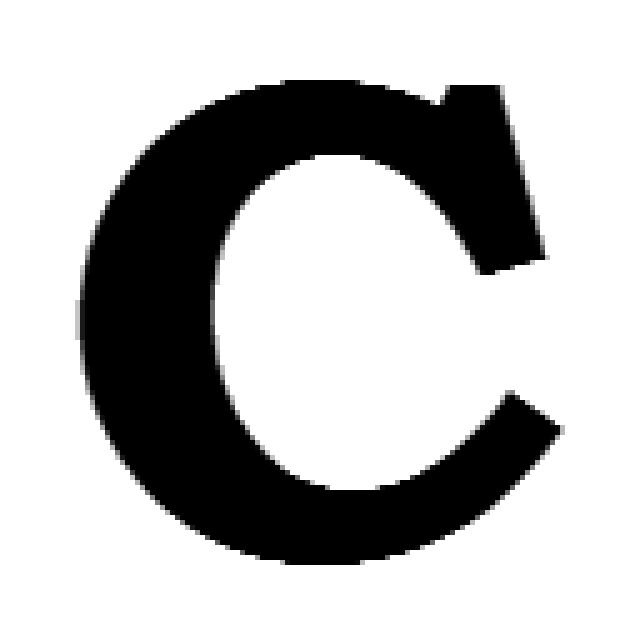C: (80, 80, 565, 565)
